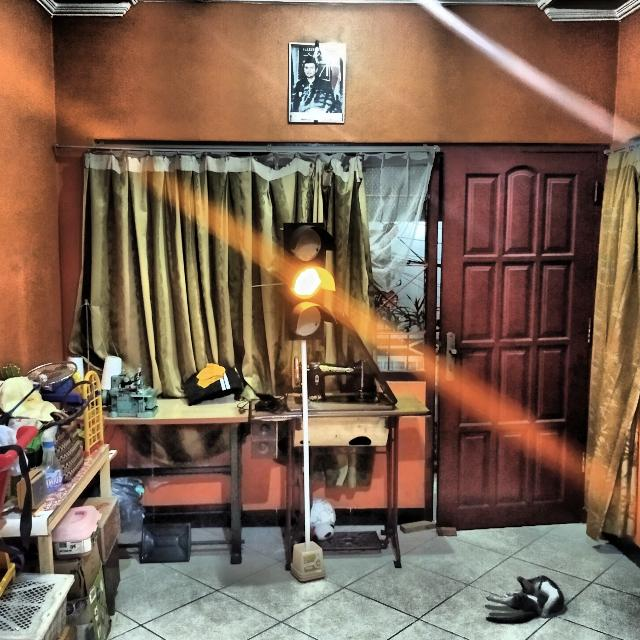yellow: (284, 224, 334, 343)
